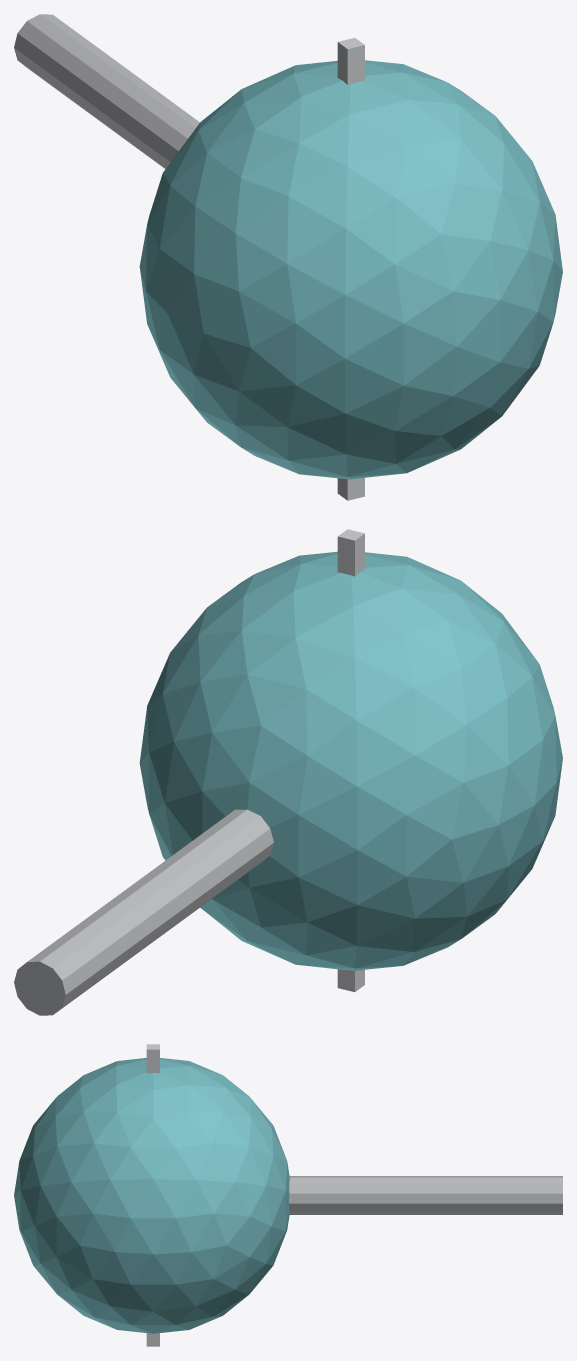
Rendered from communication_antenna.glb.
3 views of the same model, one above another, from view 1: azimuth 30°, elevation 25°; view 2: azimuth 150°, elevation 25°; view 3: azimuth 270°, elevation 25° (orthographic). The views are drawn at different scales.
Parts seen in each view (by area): view 1: communication_antenna_1, communication_antenna_0, communication_antenna_4; view 2: communication_antenna_1, communication_antenna_0, communication_antenna_4; view 3: communication_antenna_1, communication_antenna_0, communication_antenna_4.
Part boxes in pixels (bbox=[...]): communication_antenna_1: bbox=[139, 60, 562, 479]; communication_antenna_0: bbox=[14, 14, 199, 168]; communication_antenna_4: bbox=[337, 37, 364, 84]; communication_antenna_1: bbox=[139, 551, 562, 970]; communication_antenna_0: bbox=[14, 809, 273, 1015]; communication_antenna_4: bbox=[337, 529, 364, 576]; communication_antenna_1: bbox=[14, 1058, 289, 1333]; communication_antenna_0: bbox=[289, 1176, 562, 1214]; communication_antenna_4: bbox=[146, 1044, 159, 1073].
Size of the model in its own units: 1.7 by 2 by 3.35.
